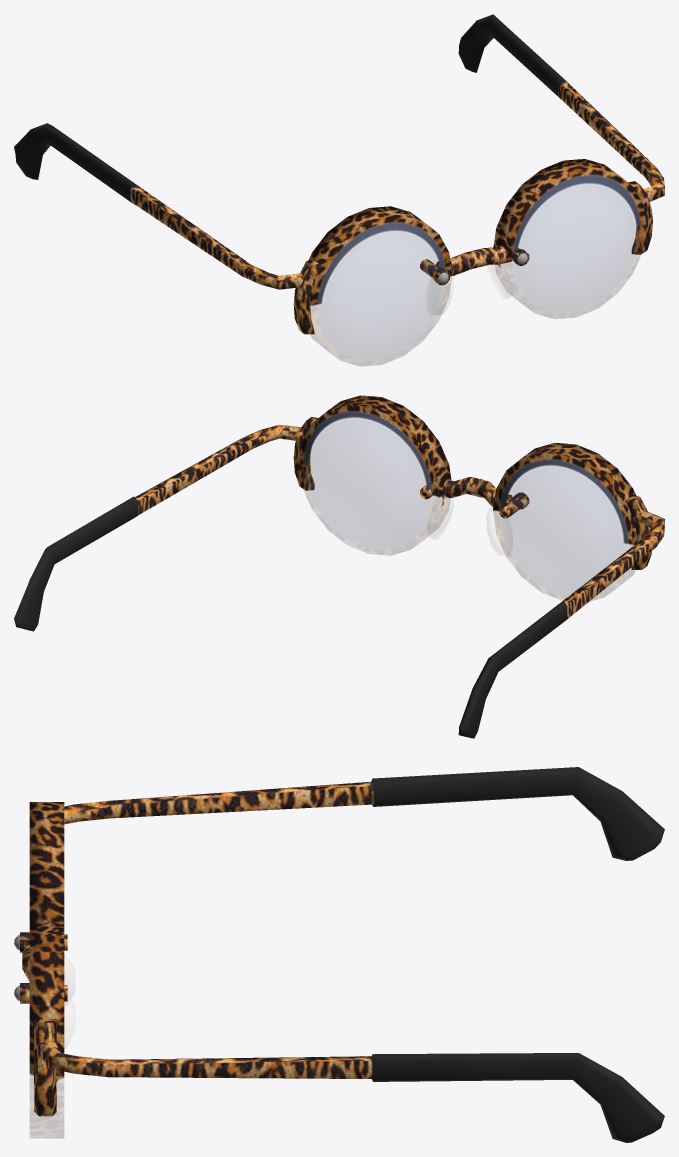
3 views of the same model, one above another, from view 1: azimuth 30°, elevation 25°; view 2: azimuth 150°, elevation 25°; view 3: azimuth 270°, elevation 25° (orthographic). The views are drawn at different scales.
Parts seen in each view (by area): view 1: Wolf3D_Glasses; view 2: Wolf3D_Glasses; view 3: Wolf3D_Glasses.
Part boxes in pixels (left/top/right/bottom): Wolf3D_Glasses: left=14, top=14, right=664, bottom=366; Wolf3D_Glasses: left=14, top=395, right=664, bottom=738; Wolf3D_Glasses: left=14, top=767, right=664, bottom=1142.
Size of the model in its own units: 0.1647 by 0.0513 by 0.1562.
Materials: 1 (1 with a texture image).
